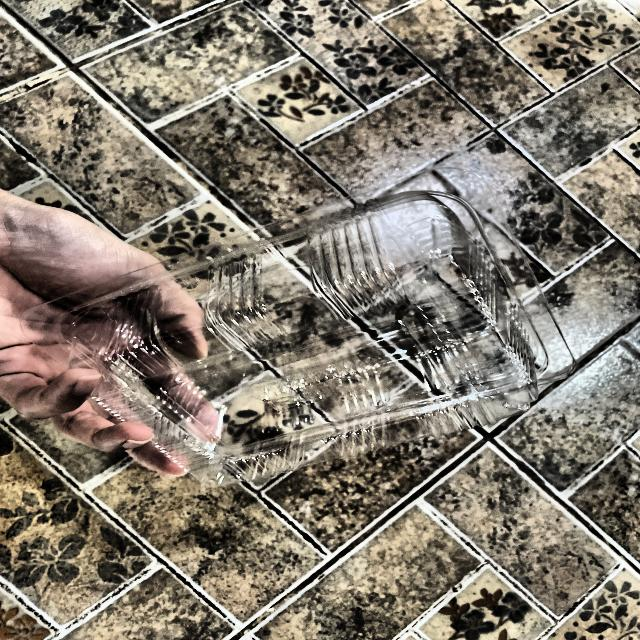plastic container: (50, 167, 577, 487)
